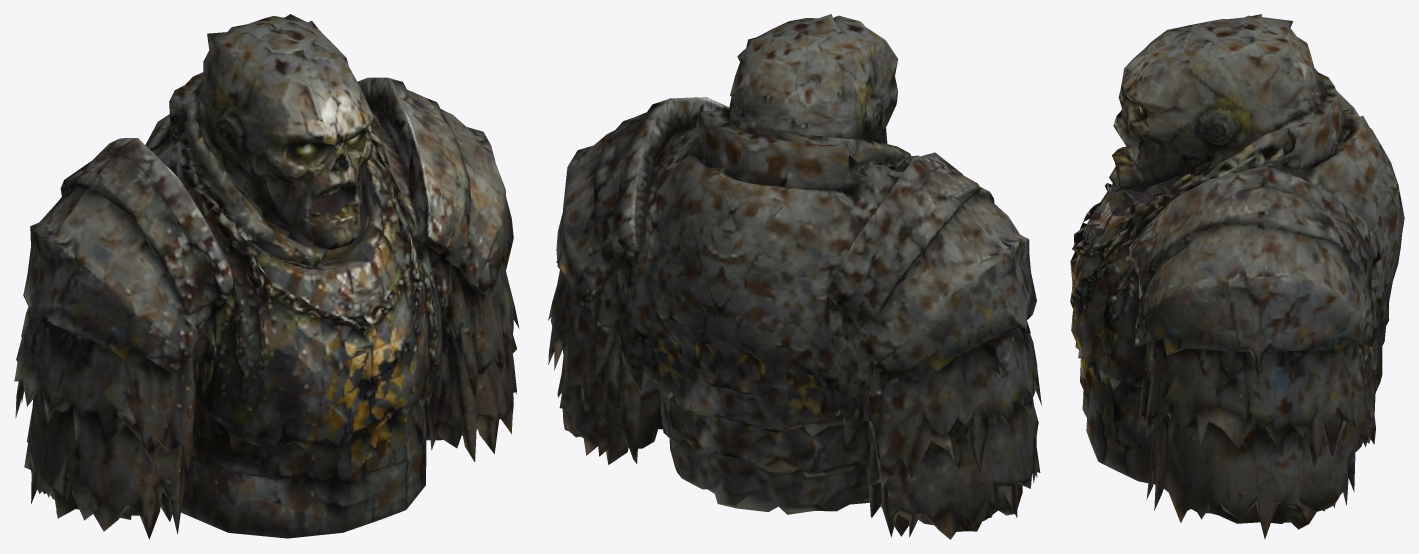
Rendered from colossus.glb.
The picture shows the model from 3 angles, left to right: view 1: azimuth 30°, elevation 25°; view 2: azimuth 150°, elevation 25°; view 3: azimuth 270°, elevation 25°; orthographic projection. The views are drawn at different scales.
Visible parts, largest first — view 1: Mesh_0; view 2: Mesh_0; view 3: Mesh_0.
Boxes of the visible parts, x1,y1,x2,y2 form: Mesh_0: (14,14,519,539); Mesh_0: (548,14,1041,539); Mesh_0: (1070,14,1404,539).
Size of the model in its own units: 1.9 by 1.69 by 1.23.
1 material, 1 textured.
